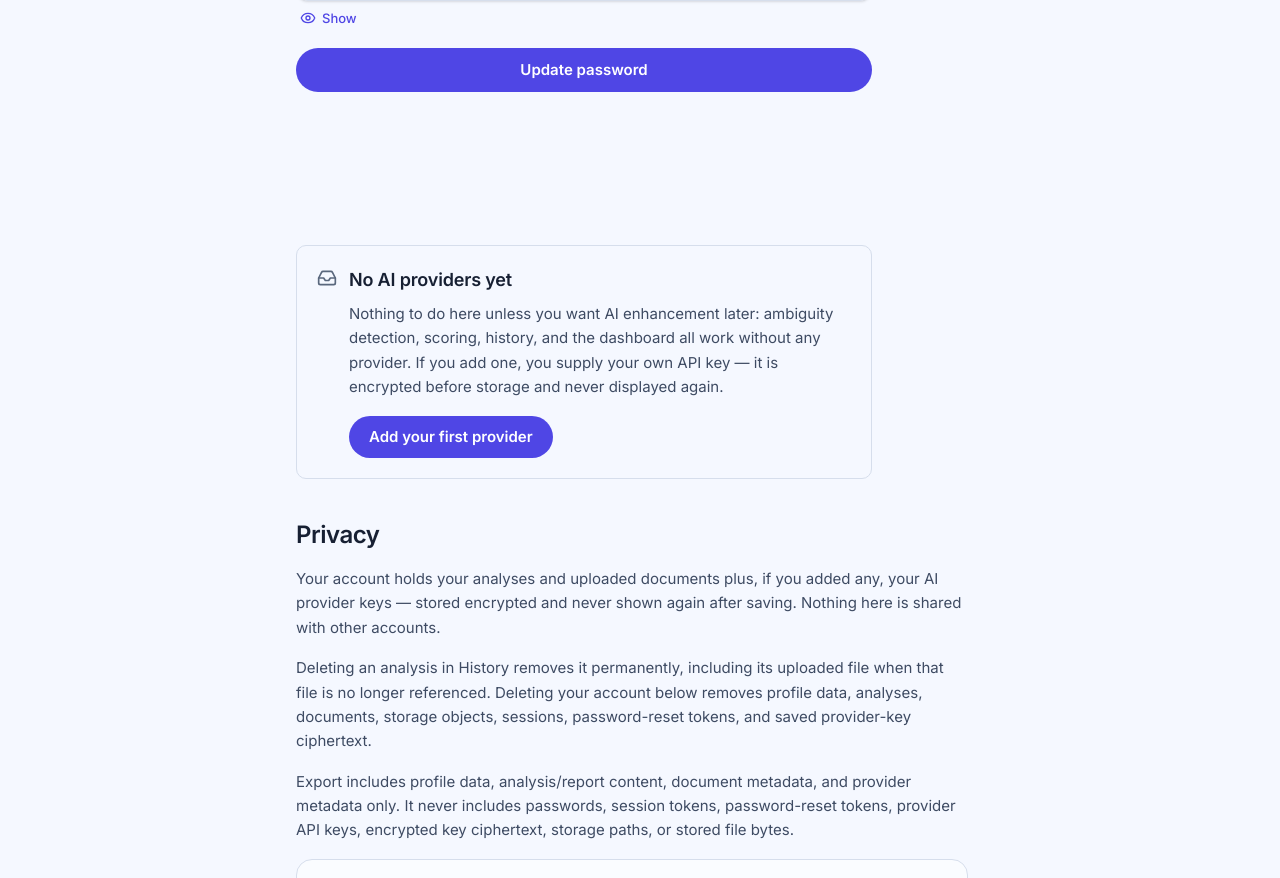
Test: SettingsScreen empty state › explains optional AI without pressure and opens the dialog
(page scrolled)
Expected: the message shows "No AI providers yet", [349,269,512,290]
Expected: the message shows "work without any provider", [349,304,833,396]
Click the button "Add your first provider". click: (451, 437)
box: [349,416,553,458]
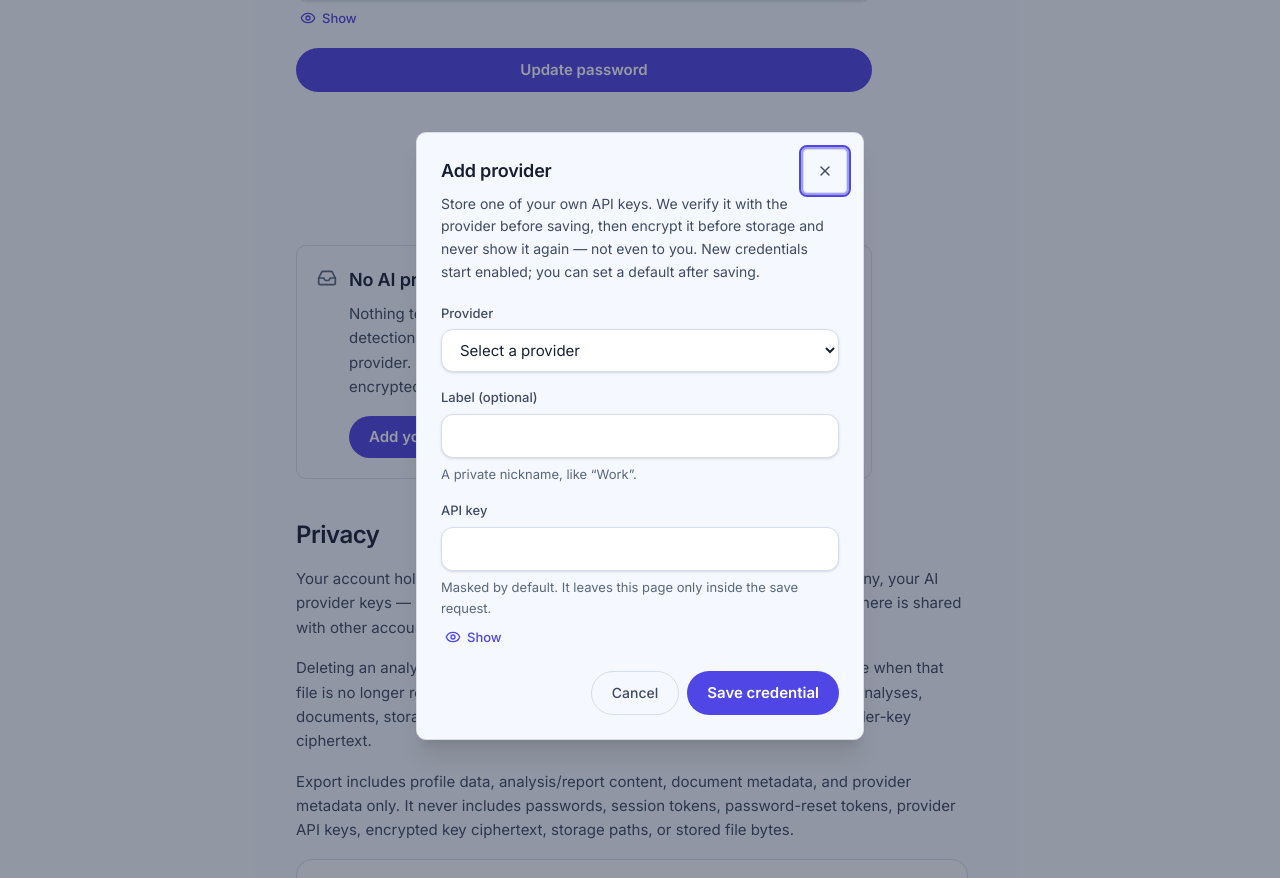
Now the dialog "Add provider" is shown, box [416,132,864,740]
